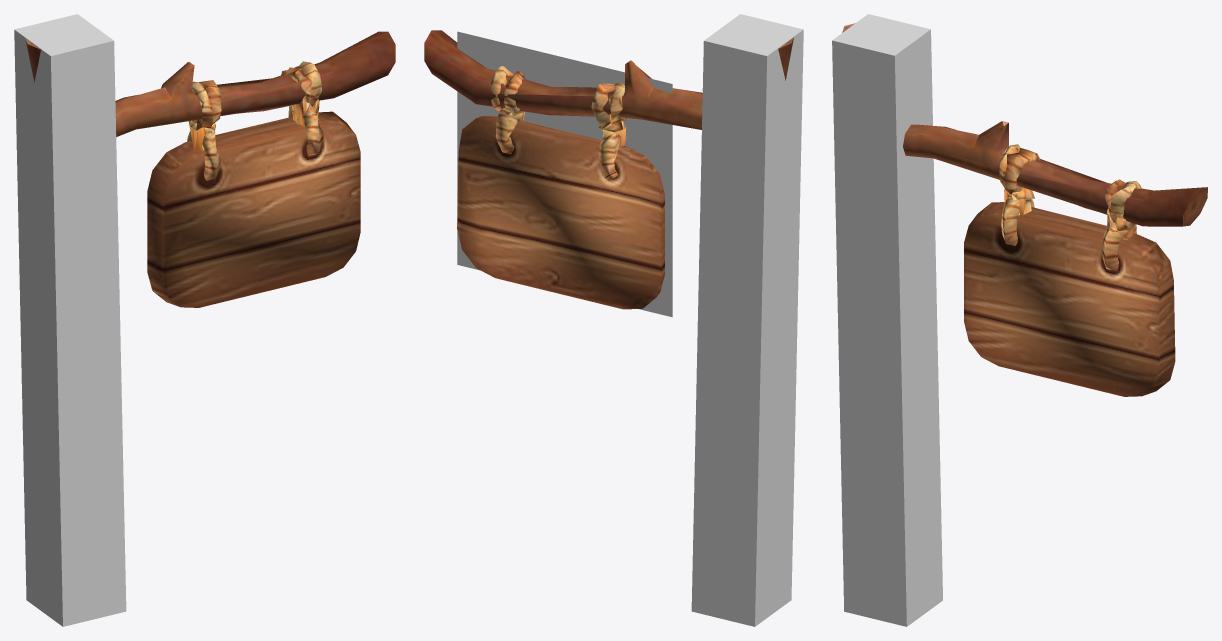
File: sign.glb
3 views of the same model, side by side, from view 1: azimuth 30°, elevation 25°; view 2: azimuth 150°, elevation 25°; view 3: azimuth 330°, elevation 25° (orthographic).
Visible parts, largest first — view 1: SignBody, Sign; view 2: SignBody, Sign; view 3: SignBody, Sign.
Boxes of the visible parts, bbox=[...] form: SignBody: bbox=[14, 14, 126, 626]; Sign: bbox=[25, 31, 395, 307]; SignBody: bbox=[457, 14, 803, 626]; Sign: bbox=[424, 30, 793, 309]; SignBody: bbox=[832, 14, 942, 626]; Sign: bbox=[842, 23, 1207, 396].
Size of the model in its own units: 2.81 by 4.28 by 0.4948.
Materials: 1 (1 with a texture image).
